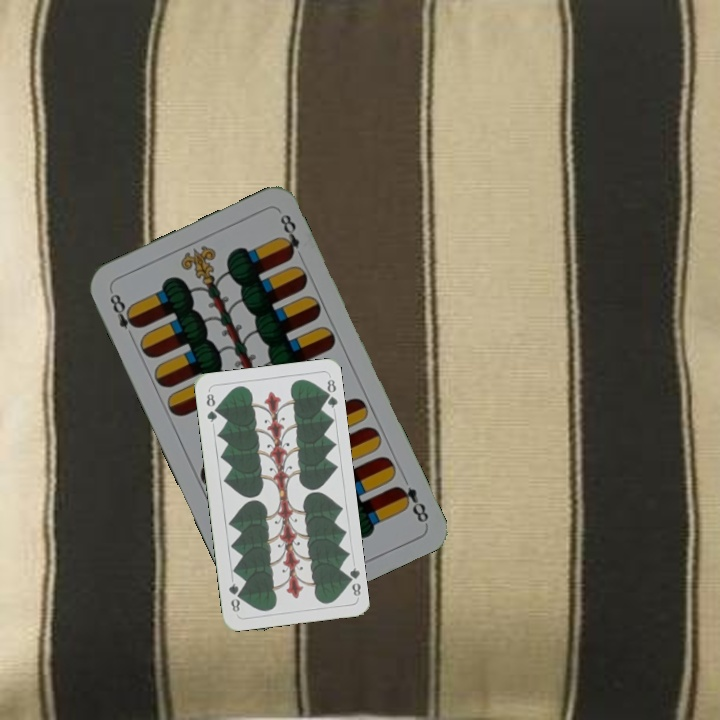E8: (105, 287, 142, 343), (392, 482, 431, 525)
G8: (342, 563, 363, 598), (202, 389, 220, 425)
